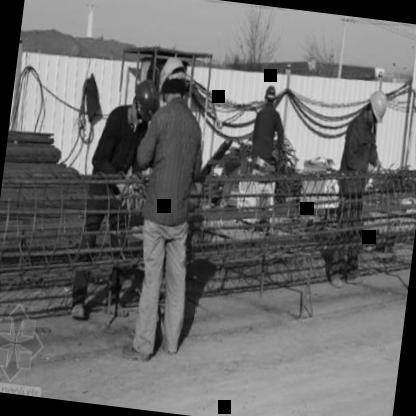helmet: (126, 72, 164, 128), (154, 52, 190, 106), (360, 86, 391, 130), (262, 82, 279, 110)
